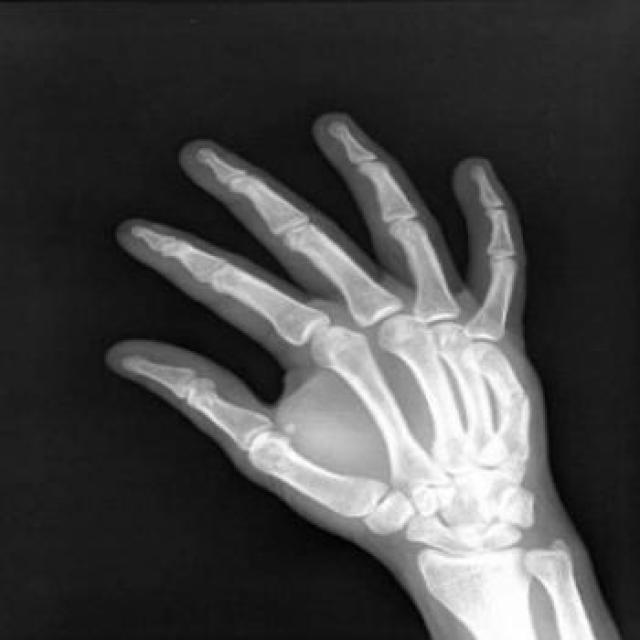fracture: (501, 377, 545, 413)
